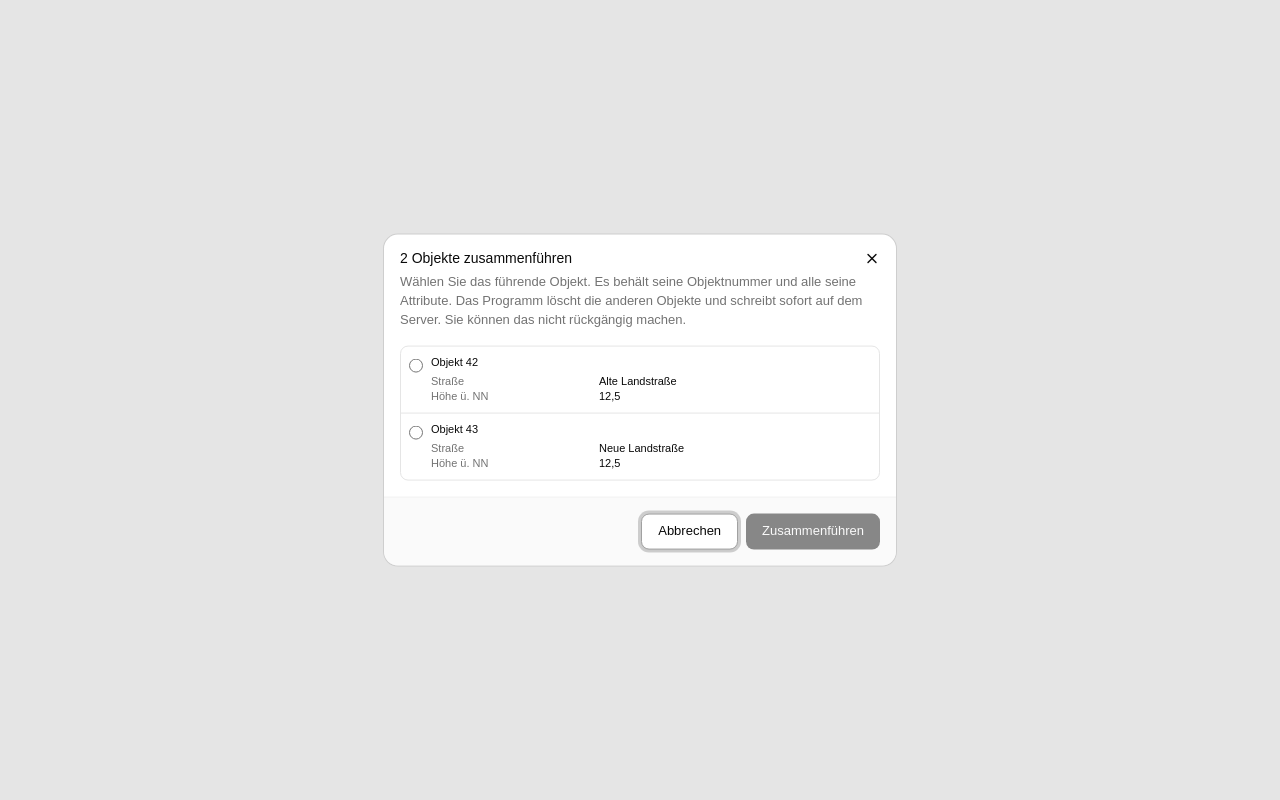
Test case: MergeDialog › erklärt einen 409 als fremde Änderung und schreibt nichts fest
Expected: the text "Alte Landstraße" is shown, [599,374,677,386]
Click the radio button labelled "Objekt 42".
click(416, 365)  # box [409,358,423,372]
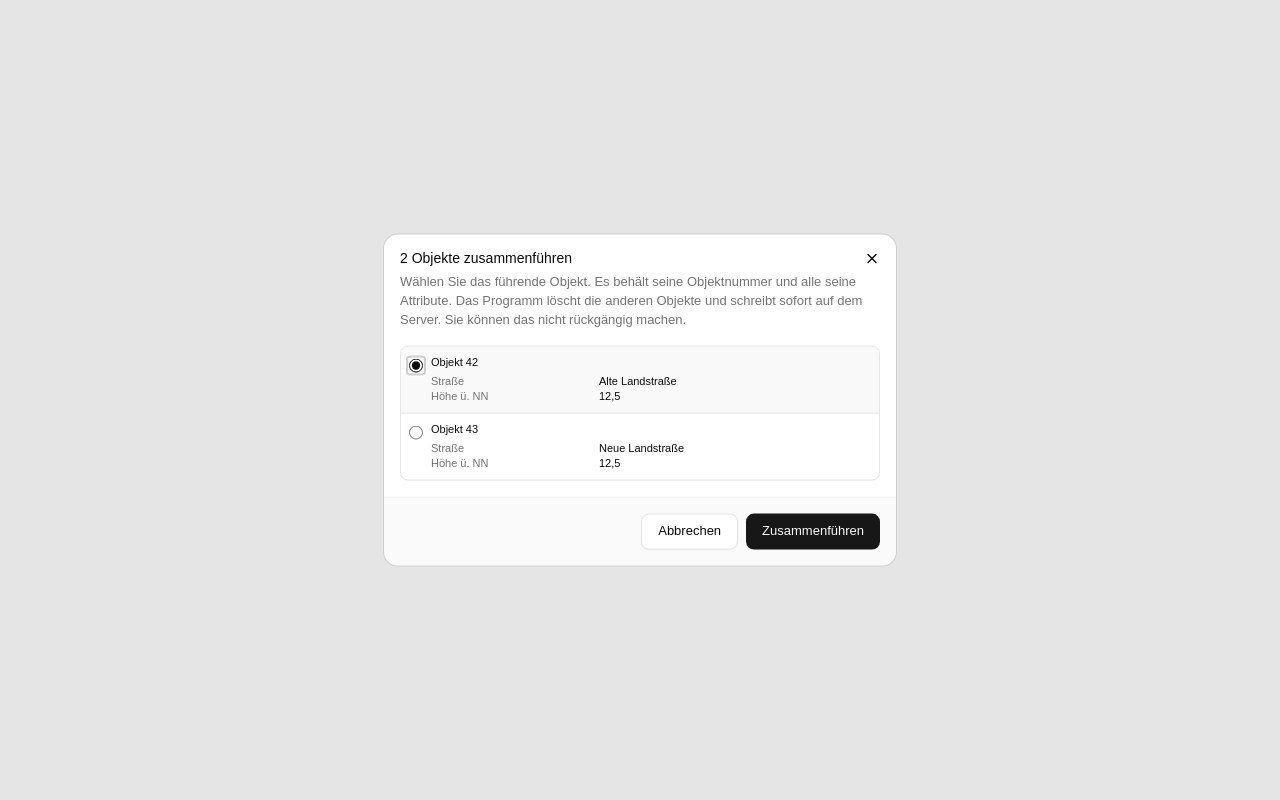
Click the button "Zusammenführen".
click(813, 531)  # box [746,513,880,549]
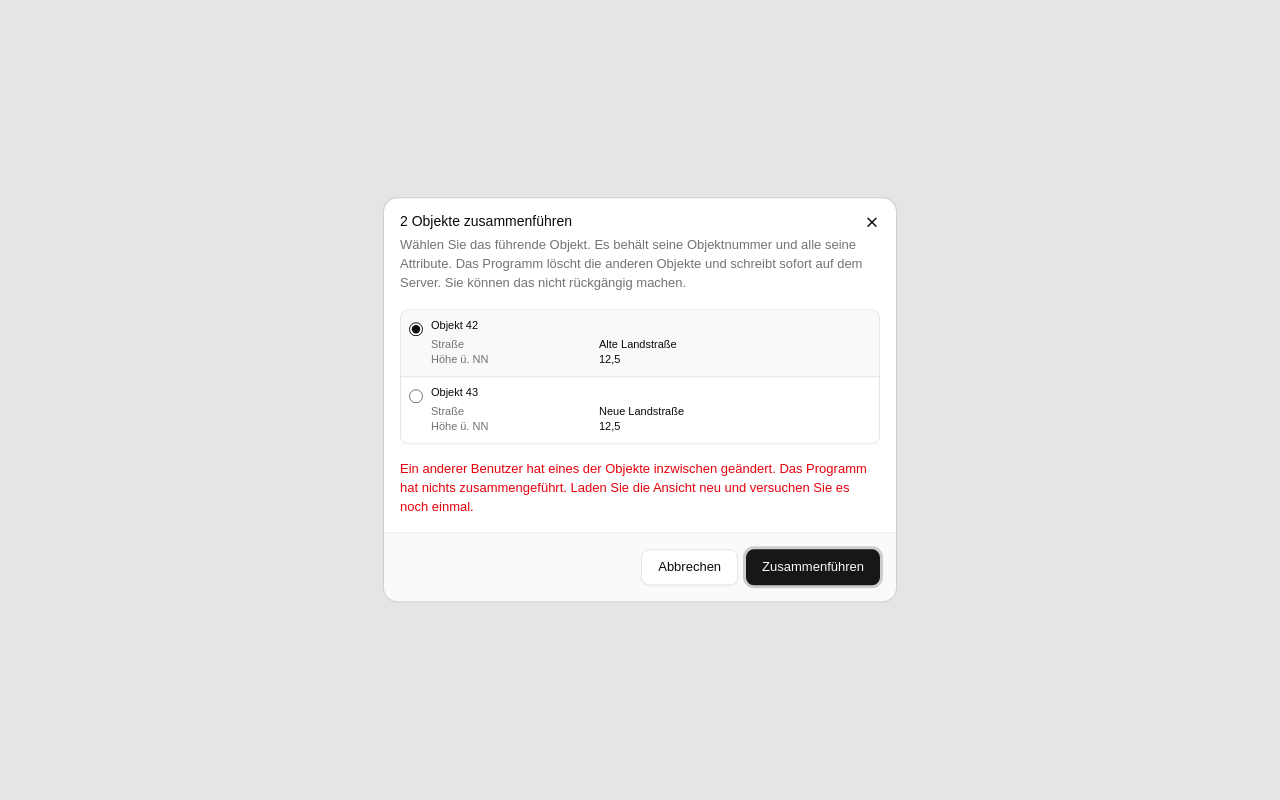
Expected: the text "Ein anderer Benutzer hat eines der Objekte inzwischen geändert" is shown, [400,461,867,514]
